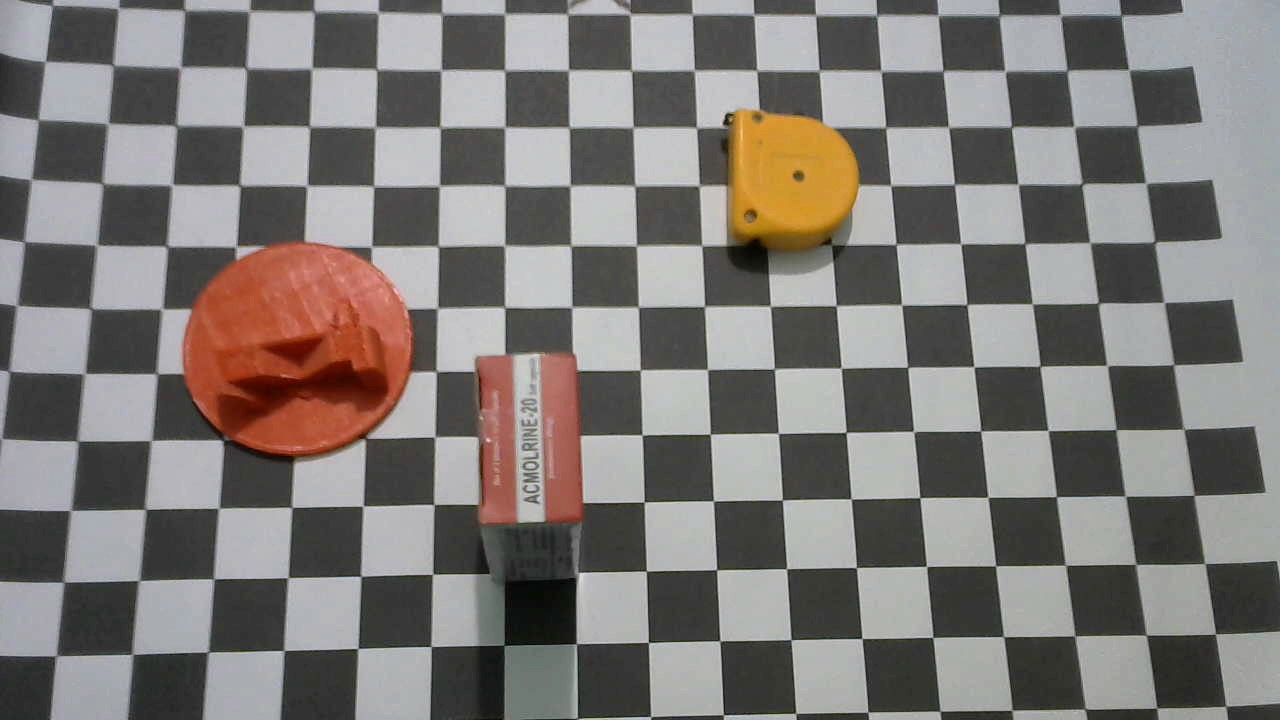blue: (721, 107, 860, 259)
green: (183, 241, 413, 459)
red: (474, 352, 586, 582)
